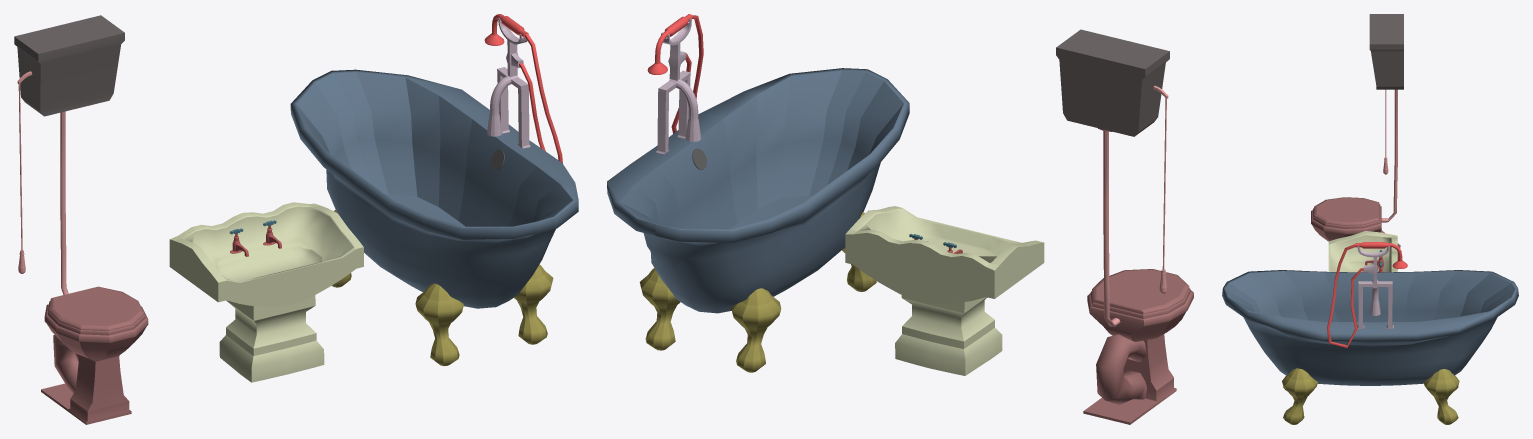
Rendered from BathroomAssets_UVDONE_Fixed.fbx.
3 renders of one model, left to right at view 1: azimuth 30°, elevation 25°; view 2: azimuth 150°, elevation 25°; view 3: azimuth 270°, elevation 25°, orthographic. The views are drawn at different scales.
Visible parts, largest first — view 1: Bath, Sink, Toilet; view 2: Bath, Toilet, Sink; view 3: Bath, Toilet, Sink.
Part boxes in pixels (x1,y1,x2,y2): Bath: [290, 14, 578, 366]; Sink: [169, 202, 363, 382]; Toilet: [14, 15, 148, 424]; Bath: [607, 14, 909, 372]; Toilet: [1056, 29, 1193, 424]; Sink: [845, 206, 1044, 375]; Bath: [1222, 242, 1518, 424]; Toilet: [1311, 14, 1403, 269]; Sink: [1328, 231, 1397, 272].
Bounding box in the file's own units: 22.59 × 15.24 × 16.06.
